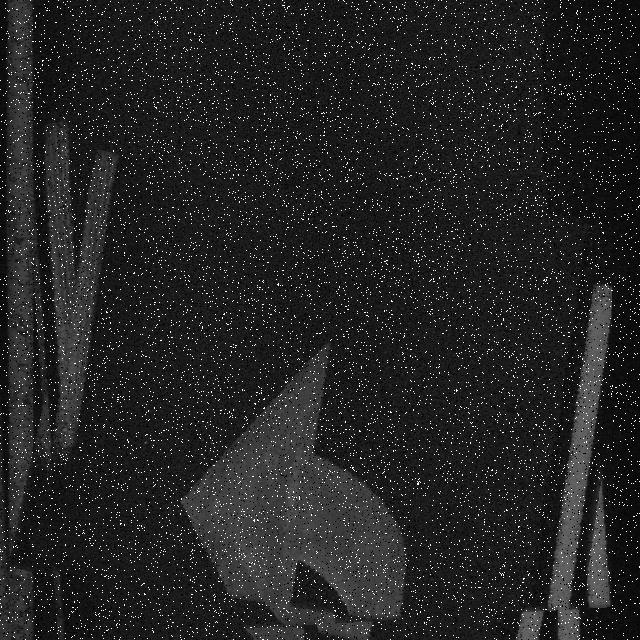left: (27, 175, 612, 640)
